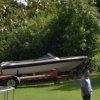Boat: (1, 45, 89, 88)
